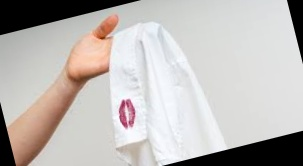lipstick: (114, 91, 140, 134)
